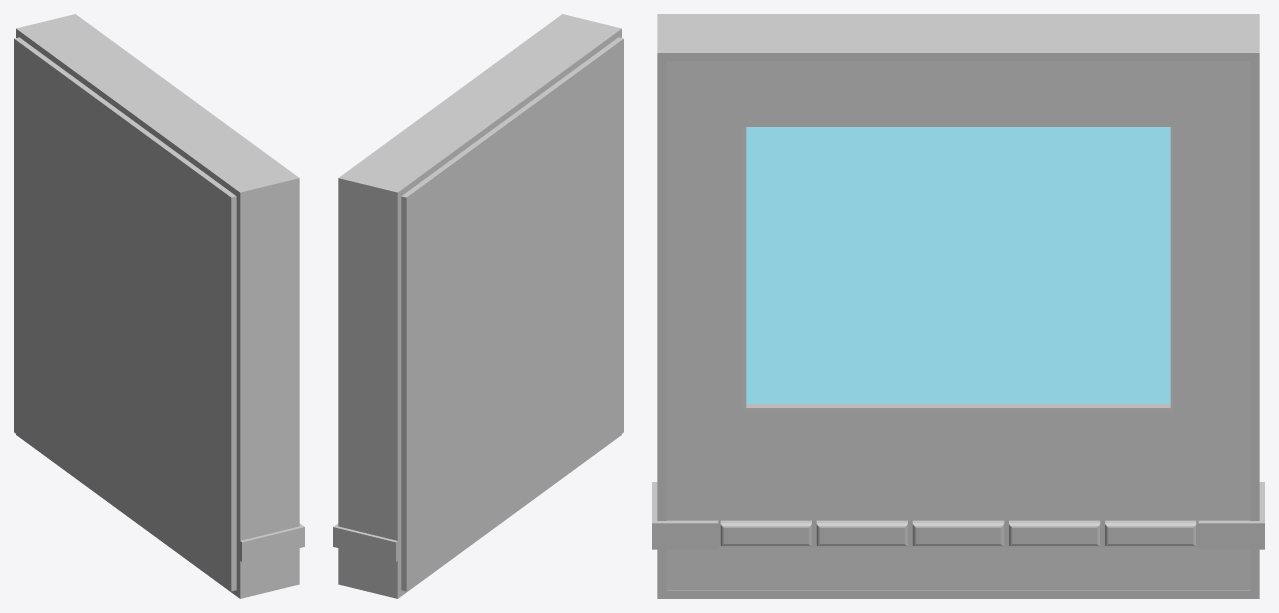
Rendered from entree.glb.
The picture shows the model from 3 angles, left to right: view 1: azimuth 30°, elevation 25°; view 2: azimuth 150°, elevation 25°; view 3: azimuth 270°, elevation 25°; orthographic projection. The views are drawn at different scales.
Visible parts, largest first — view 1: Architectural_Electrical_AC-Control-Panel_01; view 2: Architectural_Electrical_AC-Control-Panel_01; view 3: Architectural_Electrical_AC-Control-Panel_01.
Part boxes in pixels (bbox=[...]): Architectural_Electrical_AC-Control-Panel_01: bbox=[14, 14, 304, 598]; Architectural_Electrical_AC-Control-Panel_01: bbox=[333, 14, 623, 598]; Architectural_Electrical_AC-Control-Panel_01: bbox=[652, 14, 1264, 598].
Size of the model in its own units: 0.0207 by 0.1179 by 0.1199.
